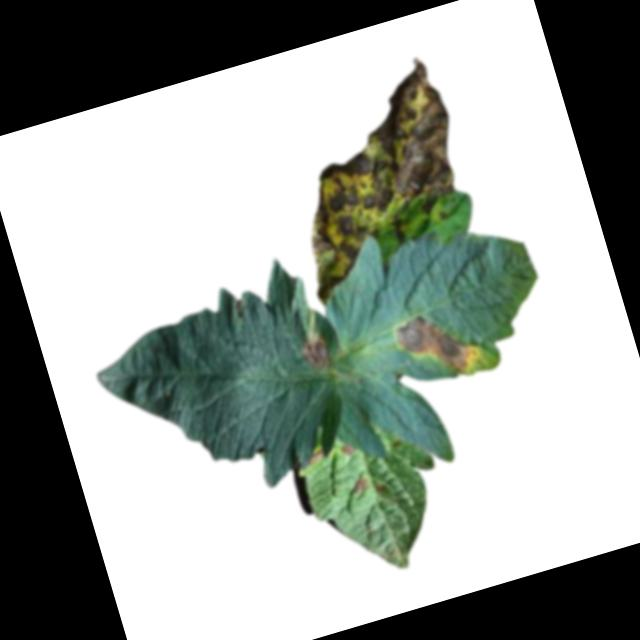Early_blight: (262, 58, 488, 300), (389, 301, 479, 389), (299, 333, 333, 375), (347, 472, 371, 496), (300, 450, 326, 471), (339, 443, 355, 459)
